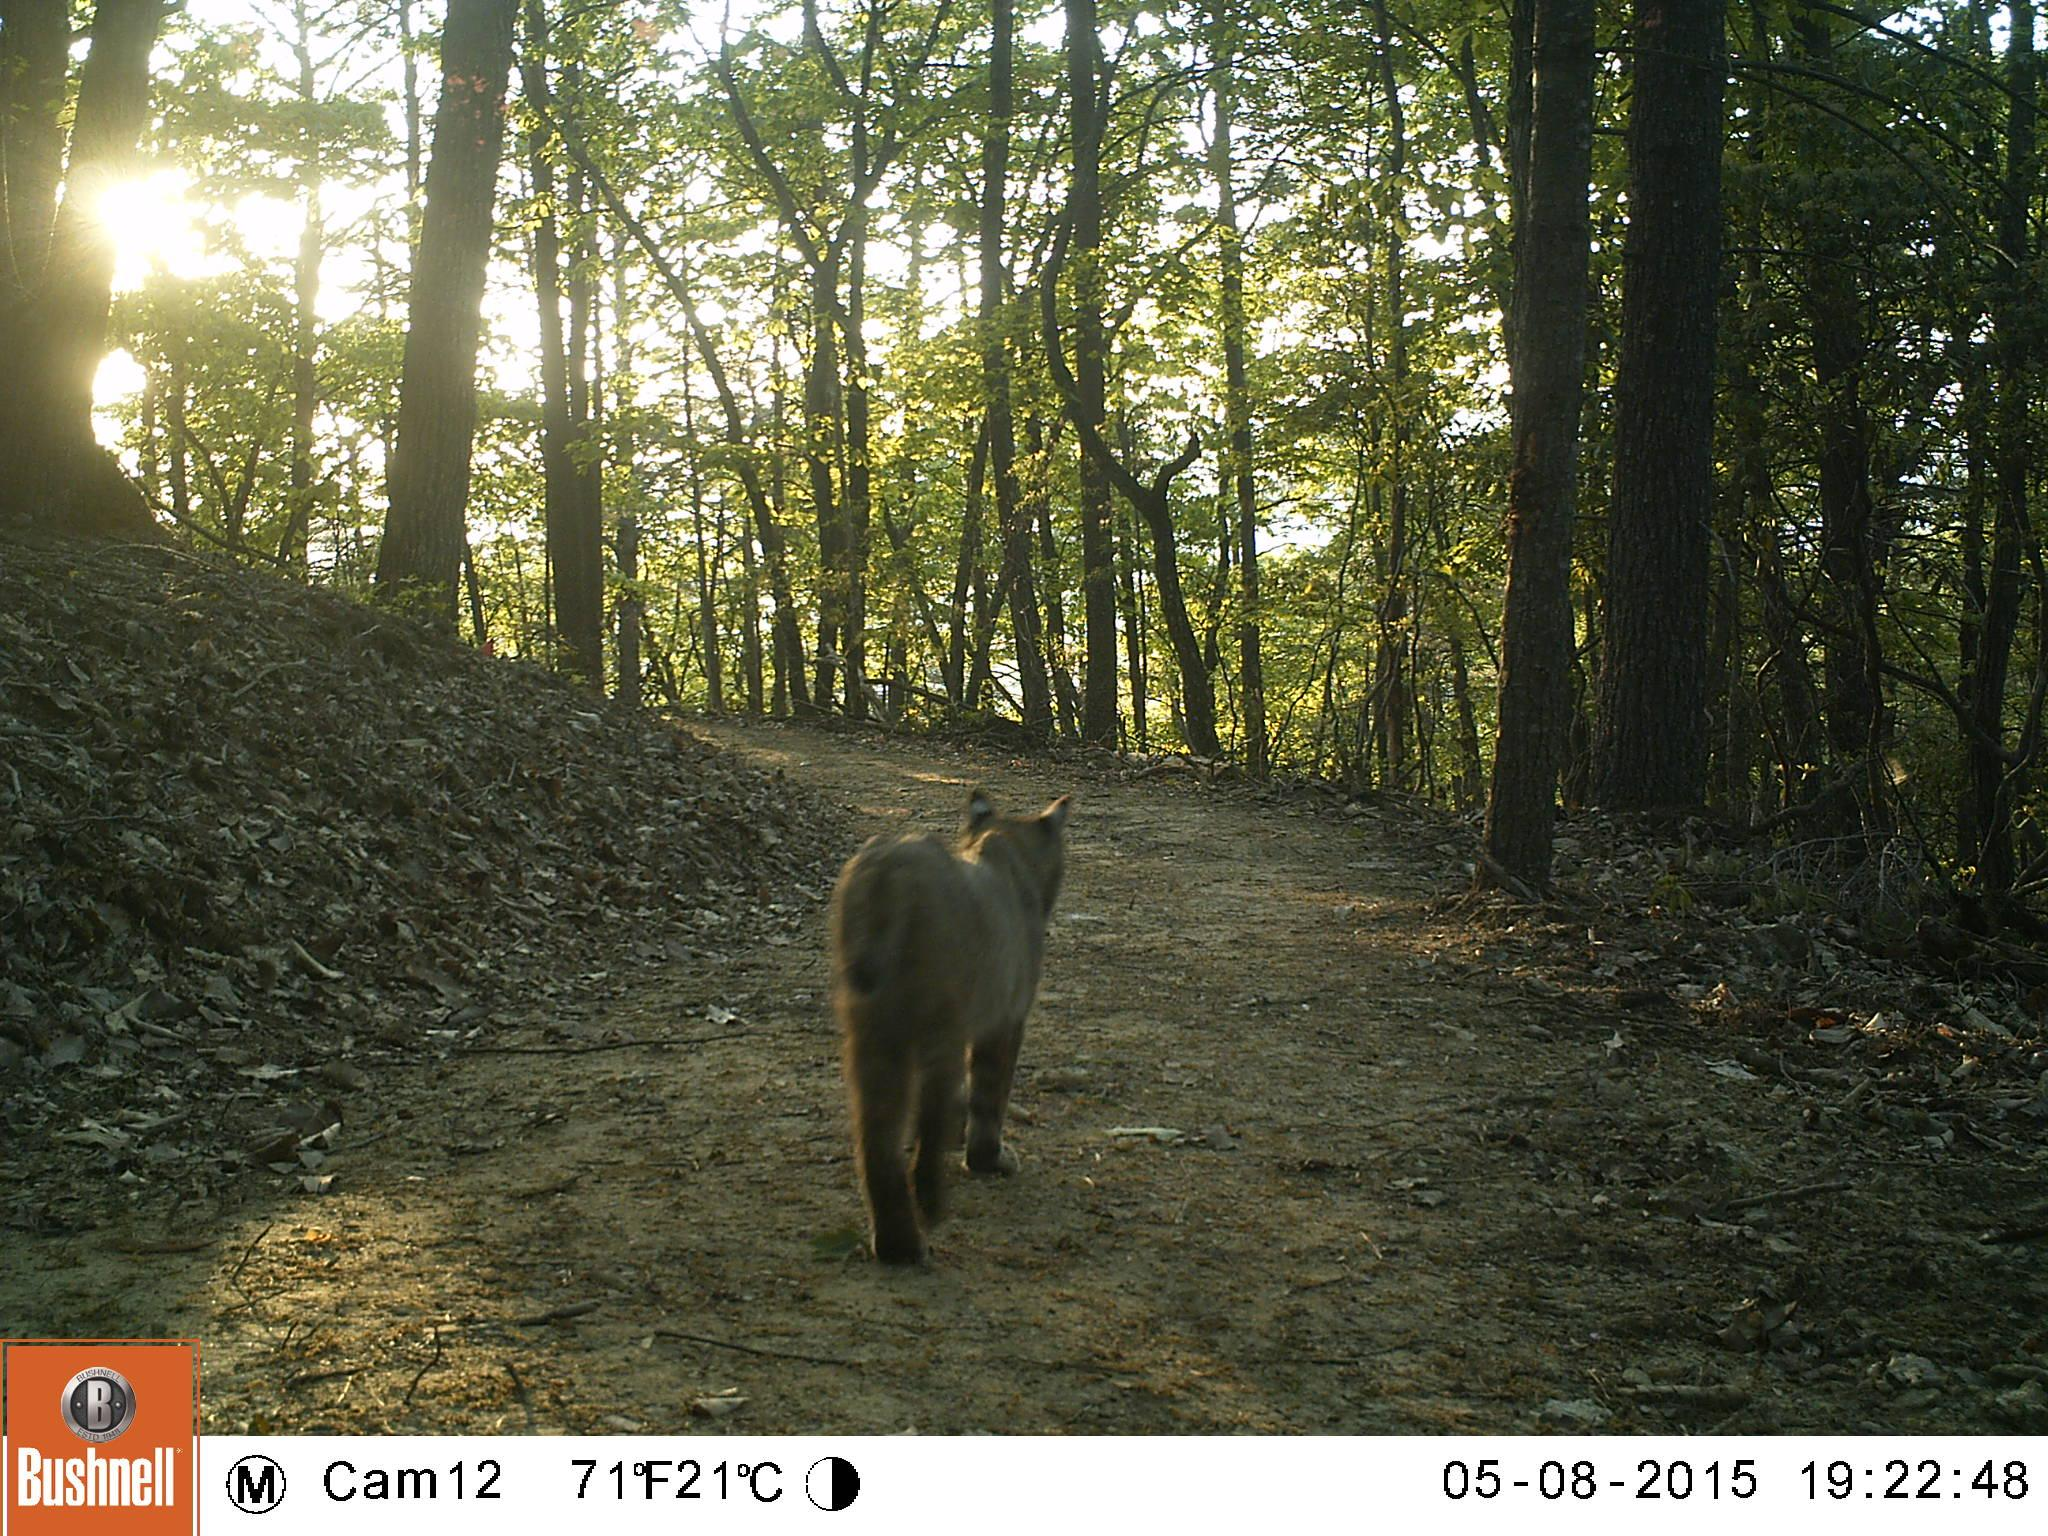Animal: (834, 791, 1077, 1262)
